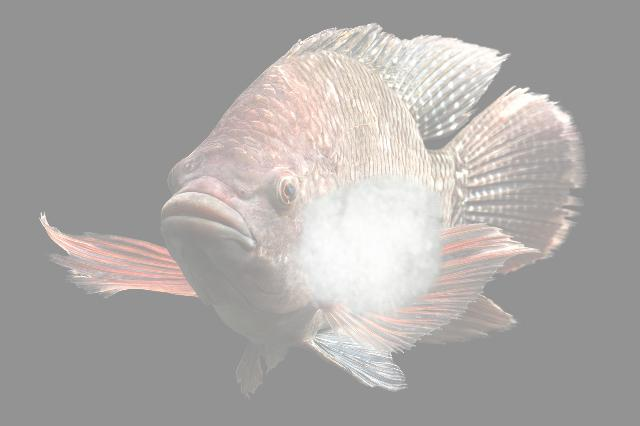Fungal Disease -Saprolegniasis-: (41, 25, 585, 395)
